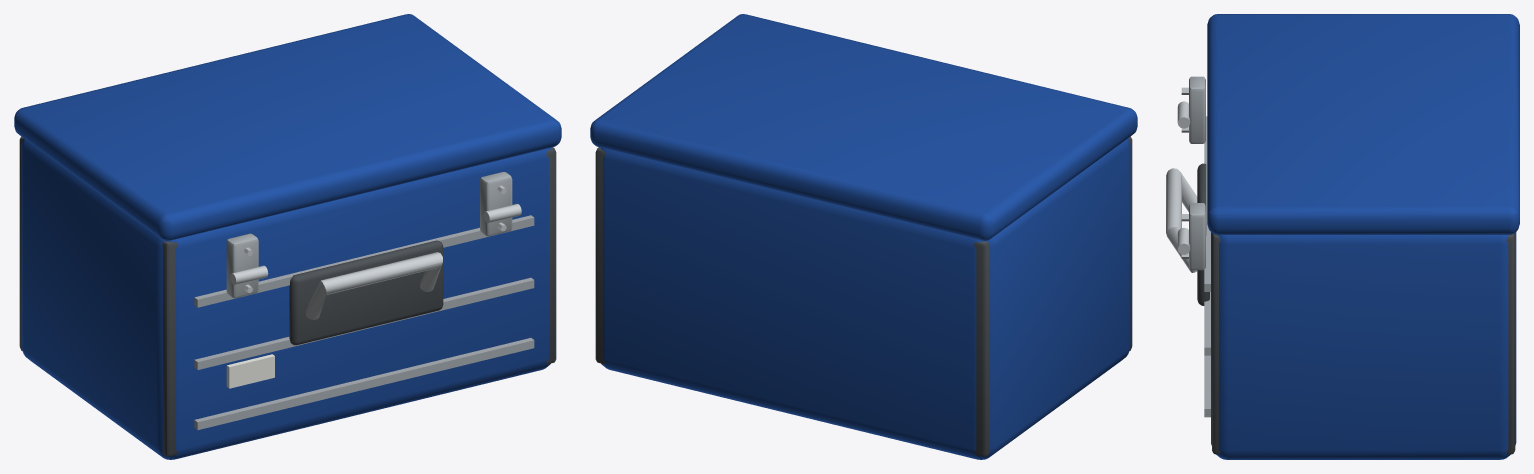
Rendered from blue_equipment_case.glb.
3 views of the same model, side by side, from view 1: azimuth 30°, elevation 25°; view 2: azimuth 150°, elevation 25°; view 3: azimuth 270°, elevation 25° (orthographic). The views are drawn at different scales.
Parts seen in each view (by area): view 1: blue_equipment_case; view 2: blue_equipment_case; view 3: blue_equipment_case.
Part boxes in pixels (x1,y1,x2,y2): blue_equipment_case: [14, 14, 561, 459]; blue_equipment_case: [590, 14, 1137, 459]; blue_equipment_case: [1166, 14, 1519, 459].
Bounding box in the file's own units: 0.3963 × 0.2364 × 0.2956.
